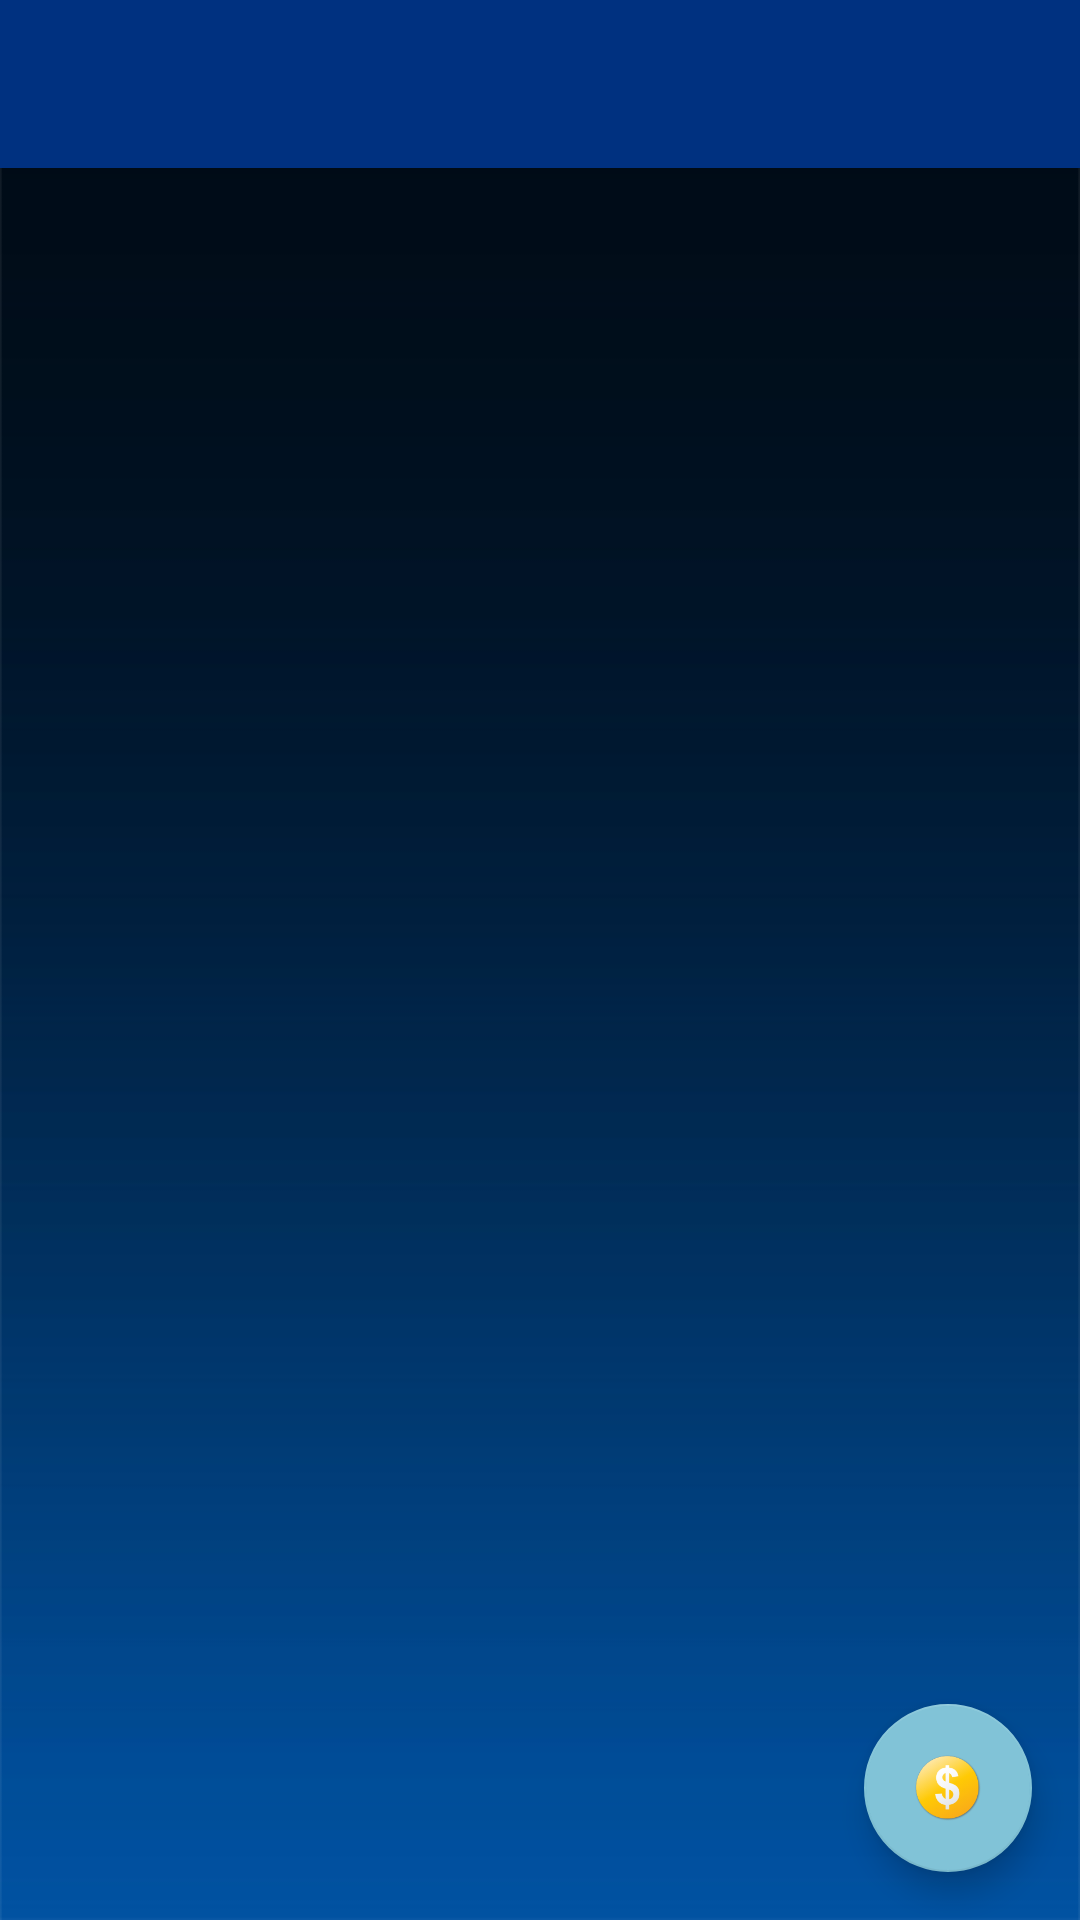

Icons on this 1080 × 1920 Android screen, each with its box as bbox=(x1, y1, x2, y2):
currency dollar: bbox=(864, 1704, 1032, 1872)
